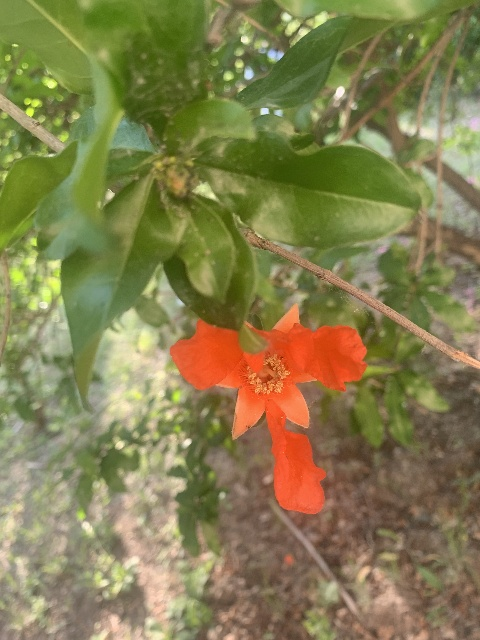flower: (170, 303, 369, 514)
